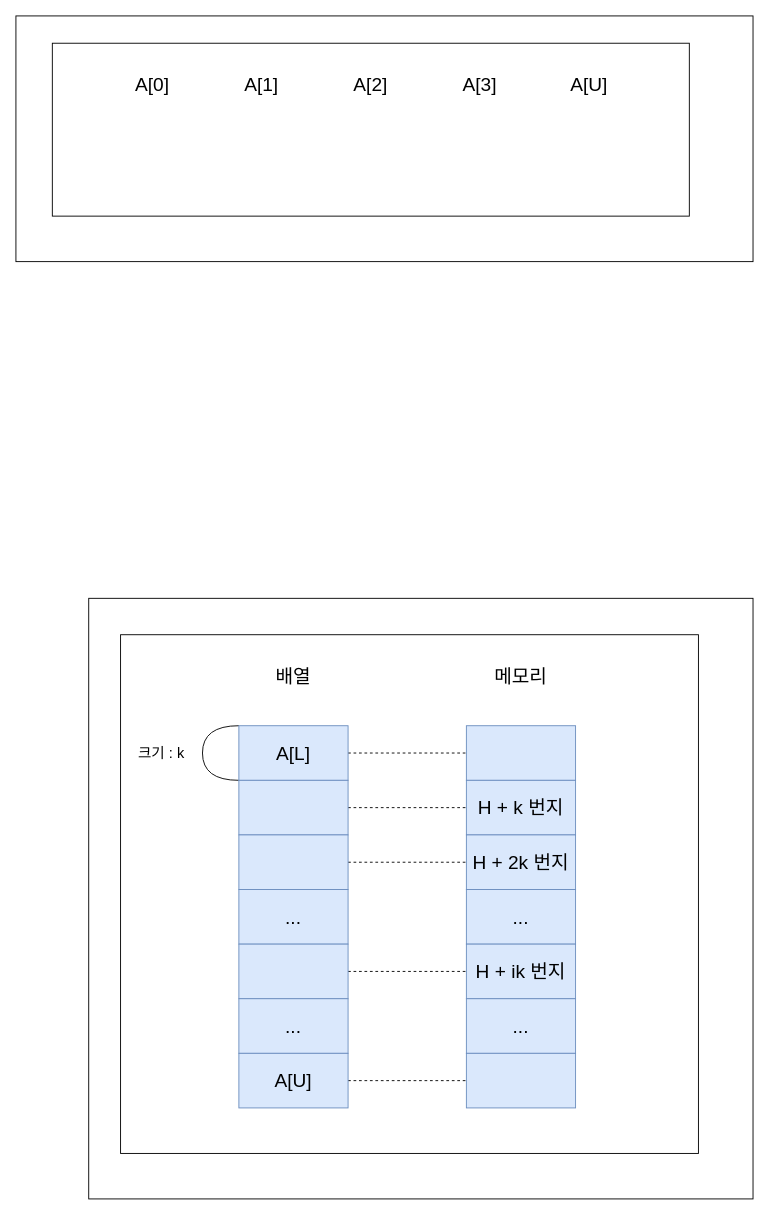
This 769x1215 diagram has some shape labels left out. The centre of each missing label's shape, as x and y in pixels:
A[i]: (x=293, y=971)
A[L+1]: (x=293, y=807)
A[L+2]: (x=293, y=862)
H + Uk 번지: (x=520, y=1080)
H 번지: (x=520, y=752)
